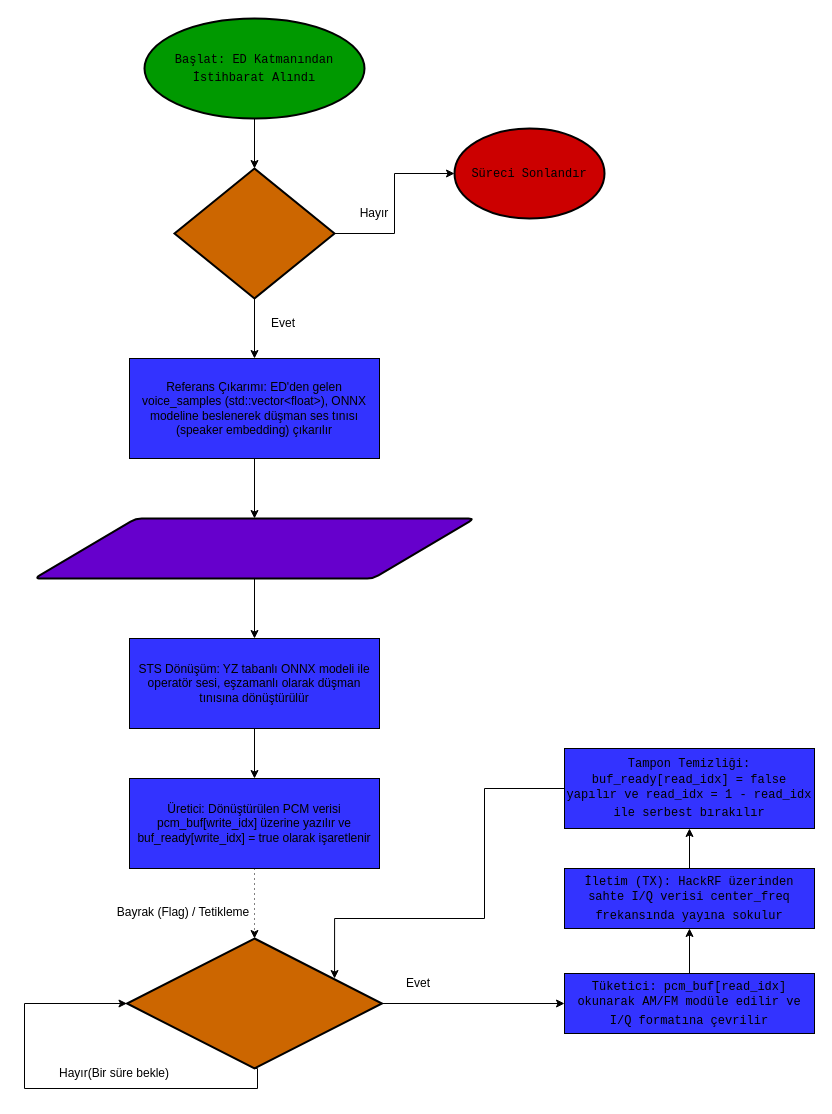
Image size: 832x1114. Some labels were removed from this diagram. The box of each missing label's shape, as (x1, y1, x2, y2) in pixels:
buf_ready[read_idx] == true mi?: (126, 937, 382, 1069)
Mikrofon: Operatör sistem üzerinden temiz ses girdisi sağlar: (33, 517, 475, 579)
Target_type == ANALOG_VOICE ?: (173, 167, 335, 299)
